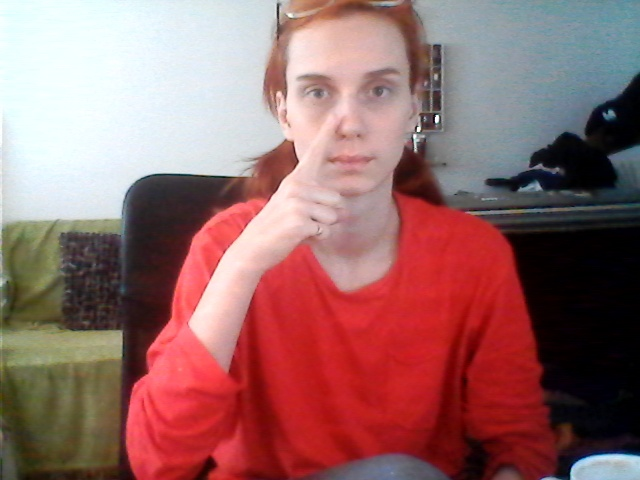mama: (301, 110, 348, 266)
